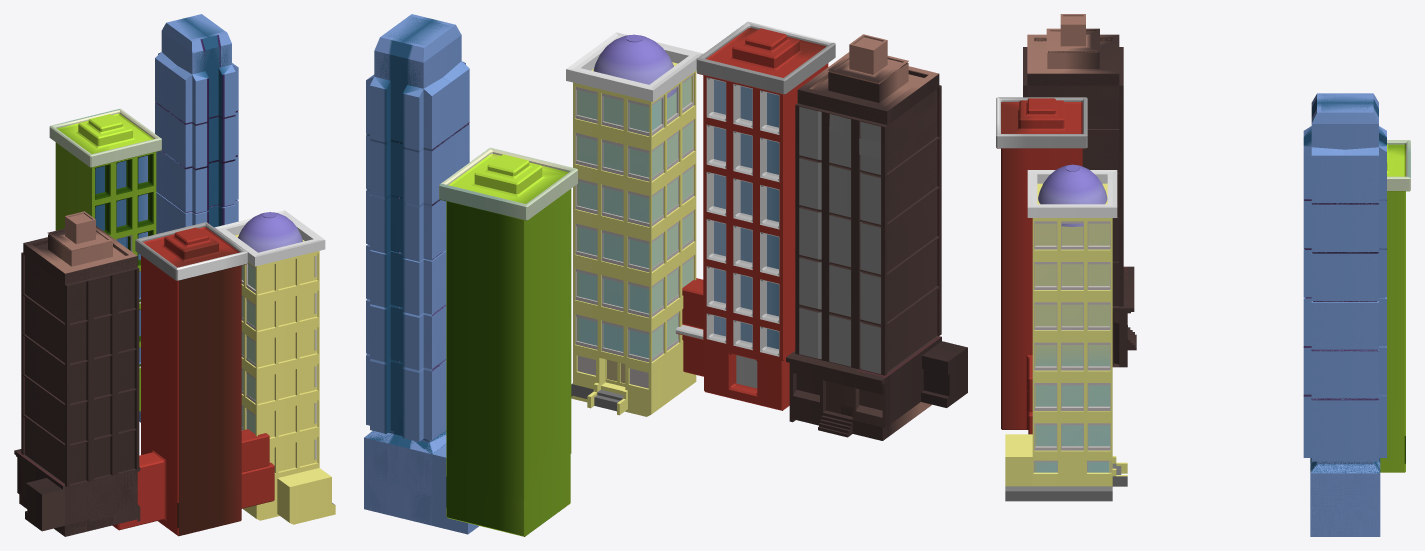
Rendered from buildings.fbx.
The picture shows the model from 3 angles, left to right: view 1: azimuth 30°, elevation 25°; view 2: azimuth 150°, elevation 25°; view 3: azimuth 270°, elevation 25°; orthographic projection. The views are drawn at different scales.
Visible parts, largest first — view 1: Cube.039, Cube.001, Cube.042, Cube.087, Cube, Sphere.001; view 2: Cube.039, Cube, Cube.087, Cube.042, Cube.001, Sphere.001; view 3: Cube.087, Cube.042, Cube.001, Cube.039, Cube, Sphere.001.
Part boxes in pixels (bbox=[...]): Cube.039: bbox=[14, 211, 140, 536]; Cube.001: bbox=[112, 222, 274, 536]; Cube.042: bbox=[214, 210, 335, 524]; Cube.087: bbox=[139, 14, 238, 422]; Cube: bbox=[49, 108, 161, 411]; Sphere.001: bbox=[238, 212, 302, 252]; Cube.039: bbox=[786, 34, 967, 440]; Cube: bbox=[439, 147, 577, 536]; Cube.087: bbox=[364, 14, 478, 534]; Cube.042: bbox=[566, 32, 703, 416]; Cube.001: bbox=[675, 21, 835, 410]; Sphere.001: bbox=[593, 34, 676, 98]; Cube.087: bbox=[1303, 93, 1386, 536]; Cube.042: bbox=[1005, 170, 1127, 501]; Cube.001: bbox=[996, 97, 1087, 434]; Cube.039: bbox=[1023, 14, 1136, 367]; Cube: bbox=[1380, 140, 1410, 472]; Sphere.001: bbox=[1038, 164, 1107, 226].
Bounding box in the file's own units: 563581 × 627686 × 562966.
Materials: 5 (5 with a texture image).
